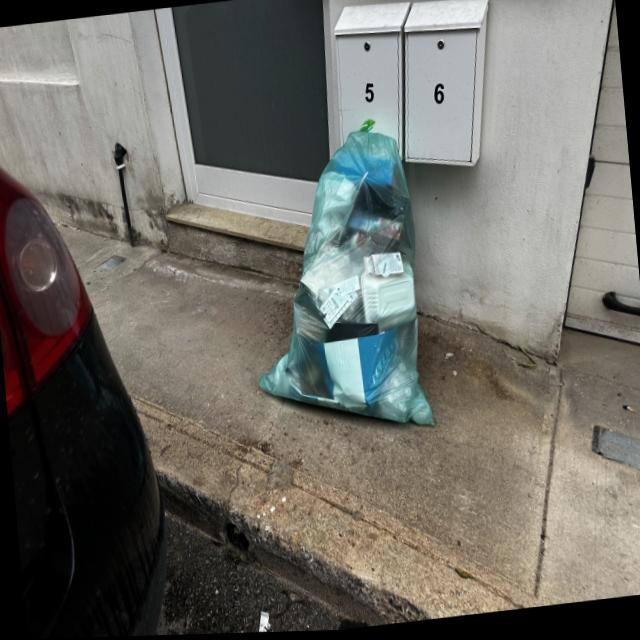Recyclable Material -Grey Bags-: (258, 133, 436, 427)
